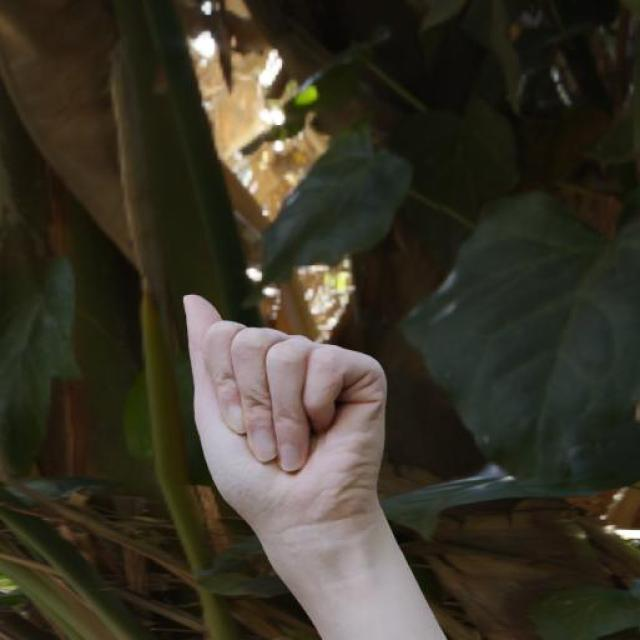A: (177, 288, 393, 528)
